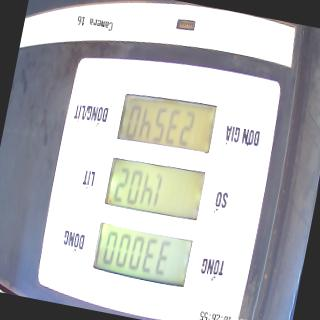screen: (88, 81, 222, 294)
